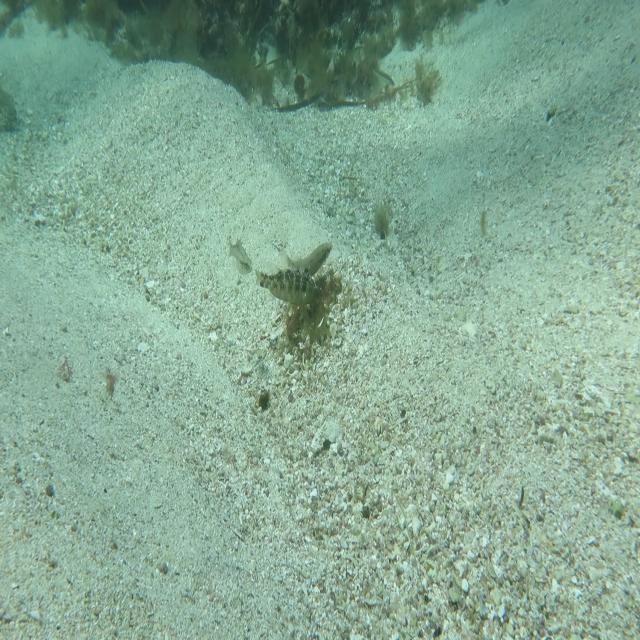NIP_CORE: (252, 258, 325, 308)
female: (274, 236, 334, 278), (223, 234, 254, 278)
nest: (276, 264, 346, 357)
vegetation: (83, 0, 450, 44), (216, 45, 434, 101), (372, 193, 393, 246)
